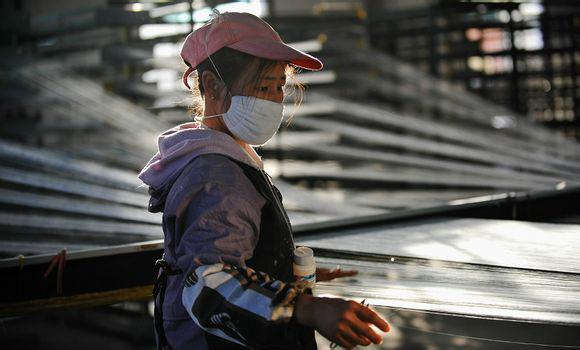OK: (215, 68, 286, 142)
